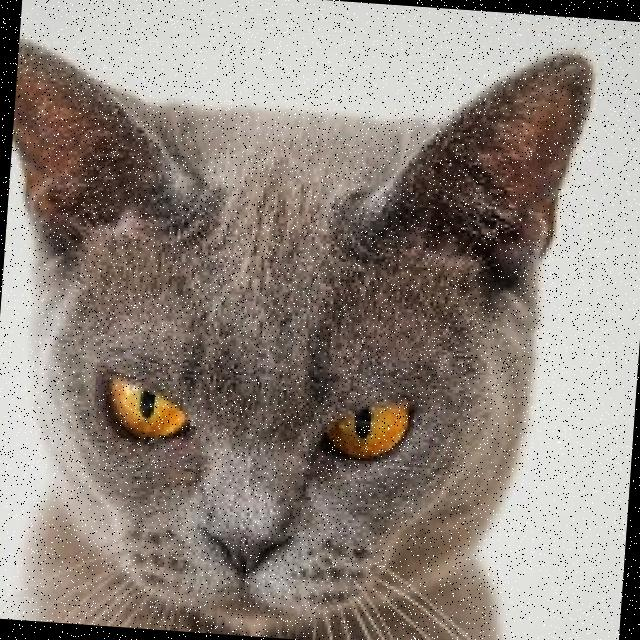Angry: (19, 315, 494, 640)
